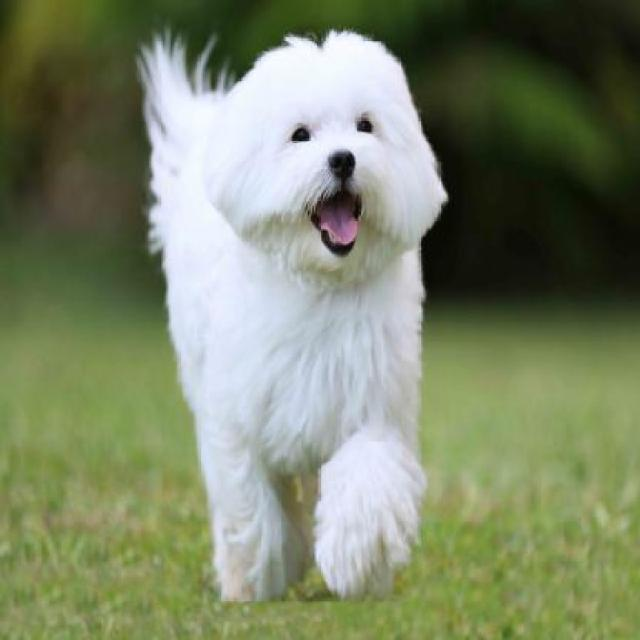Dog: (134, 18, 448, 610)
